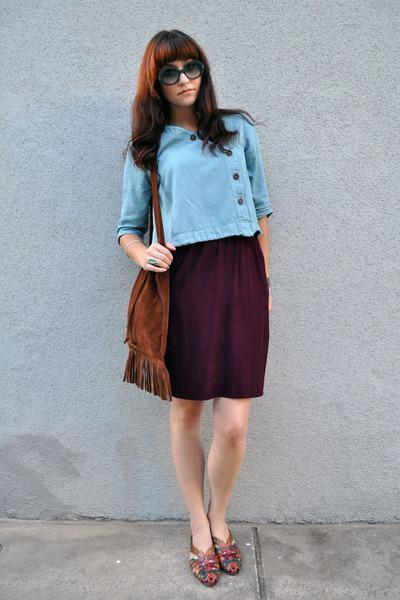bag: (123, 166, 175, 395)
shirt: (105, 101, 272, 247)
shoe: (190, 516, 240, 587)
skirt: (164, 231, 268, 400)
